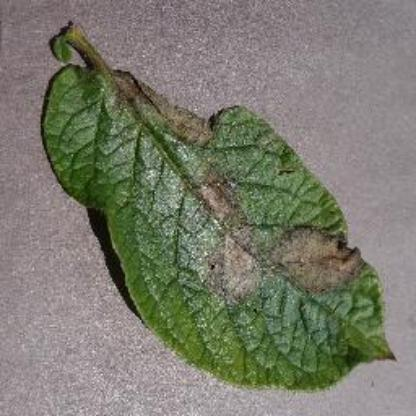Late-Blight: (20, 28, 392, 398)
